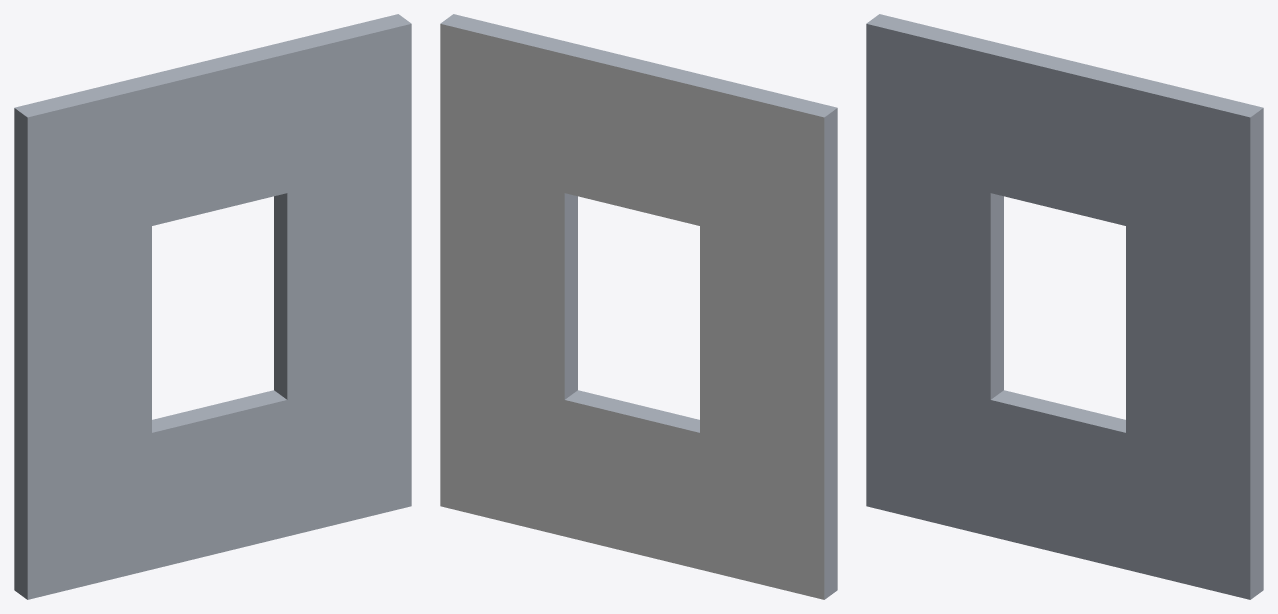
File: Wall1_C5_03.fbx
3 views of the same model, side by side, from view 1: azimuth 30°, elevation 25°; view 2: azimuth 150°, elevation 25°; view 3: azimuth 330°, elevation 25° (orthographic).
Visible parts, largest first — view 1: Wall1_C5_03; view 2: Wall1_C5_03; view 3: Wall1_C5_03.
Boxes of the visible parts, x1,y1,x2,y2 form: Wall1_C5_03: (14, 14, 411, 599); Wall1_C5_03: (440, 14, 837, 599); Wall1_C5_03: (866, 14, 1263, 599).
Bounding box in the file's own units: 250 × 300 × 15.
